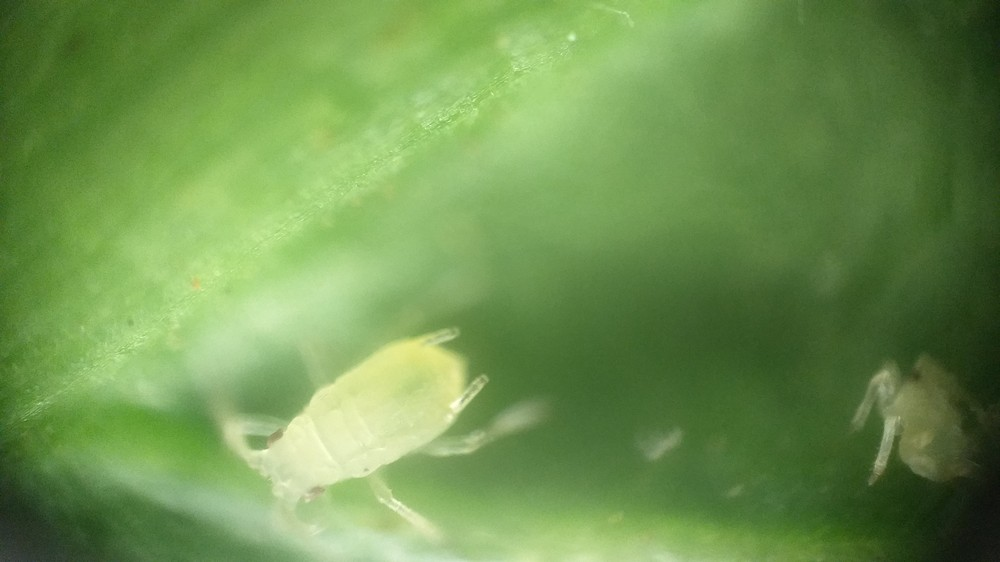Pulgon: (197, 297, 561, 550), (820, 334, 1000, 511)
